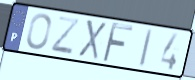4: (159, 32, 180, 74)
F: (100, 21, 135, 64)
I: (137, 27, 154, 69)
O: (25, 12, 53, 51)
X: (77, 18, 108, 62)
Z: (49, 14, 82, 57)
